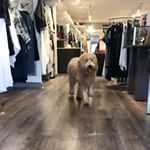puppy: (62, 50, 102, 110)
